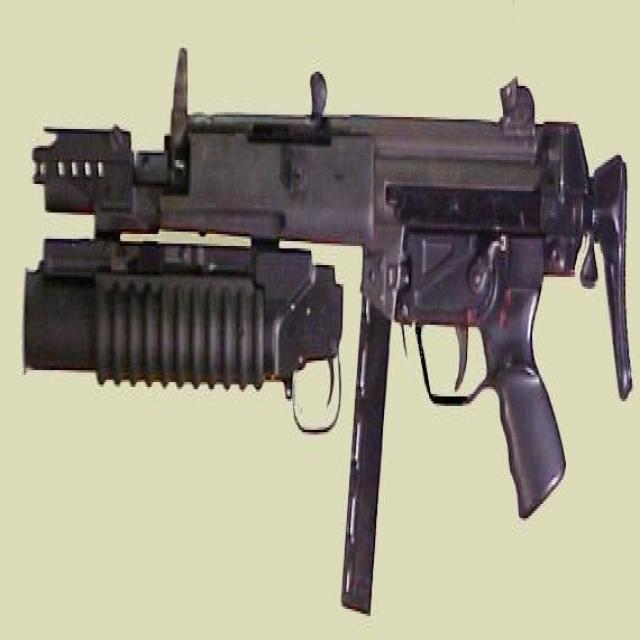firearm: (24, 44, 631, 616)
